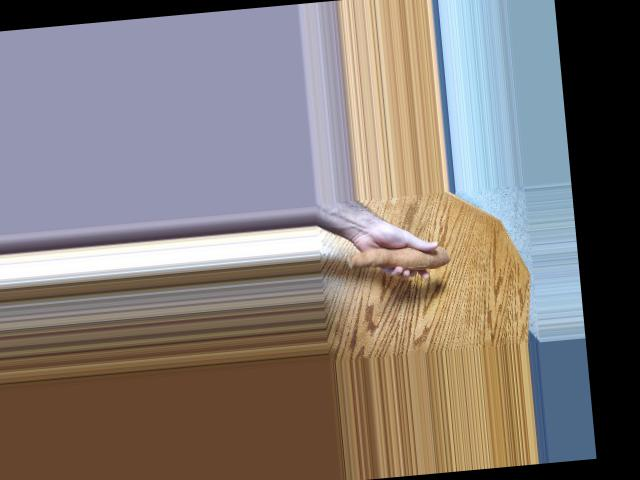sweet_potato: (341, 229, 459, 279)
